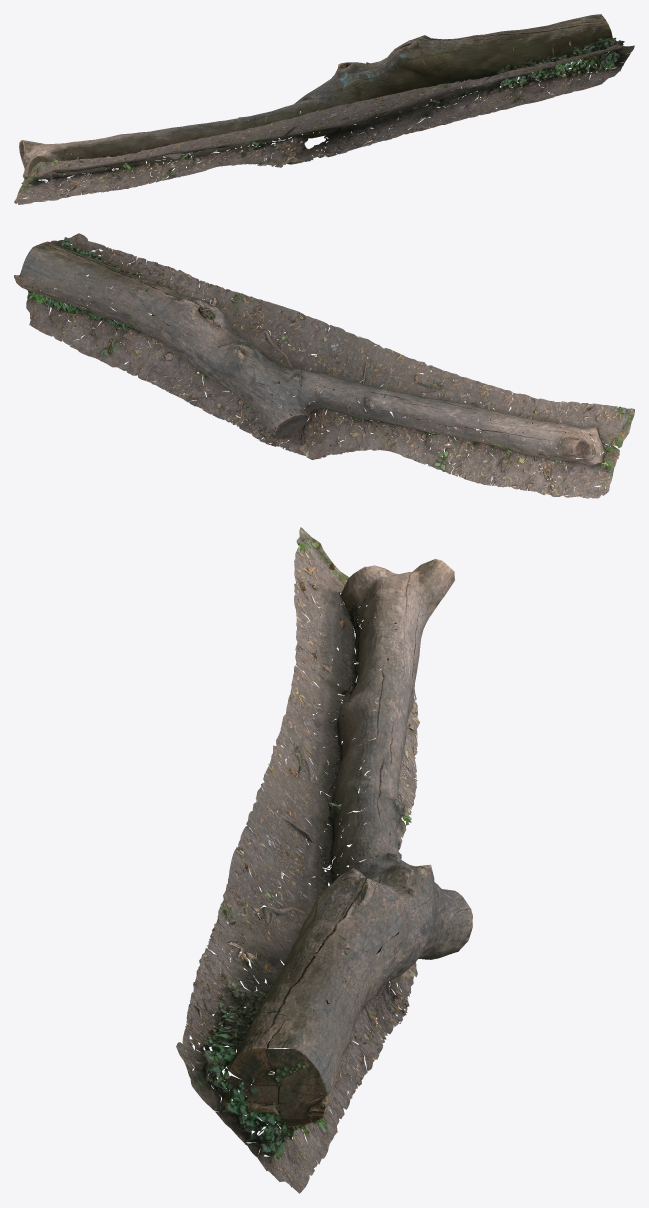
The picture shows the model from 3 angles, top to bottom: view 1: azimuth 30°, elevation 25°; view 2: azimuth 150°, elevation 25°; view 3: azimuth 270°, elevation 25°; orthographic projection. The views are drawn at different scales.
Parts seen in each view (by area): view 1: Model; view 2: Model; view 3: Model.
Boxes of the visible parts, x1,y1,x2,y2 form: Model: [14, 14, 634, 204]; Model: [14, 233, 634, 498]; Model: [176, 527, 472, 1193].
Size of the model in its own units: 36.86 by 6.71 by 8.25.
Materials: 3 (3 with a texture image).
